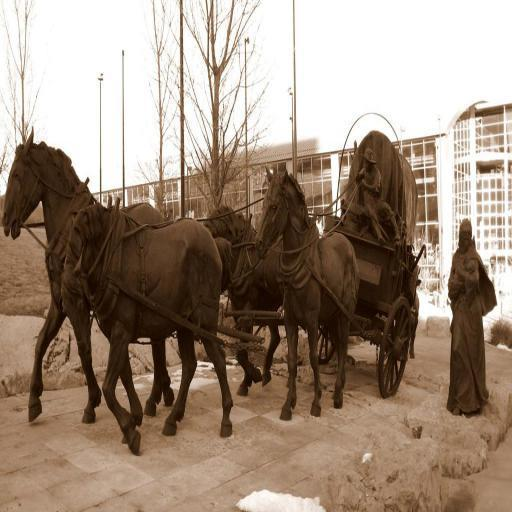horse: (0, 126, 174, 424), (47, 204, 233, 455), (254, 166, 360, 422), (202, 208, 298, 398)
